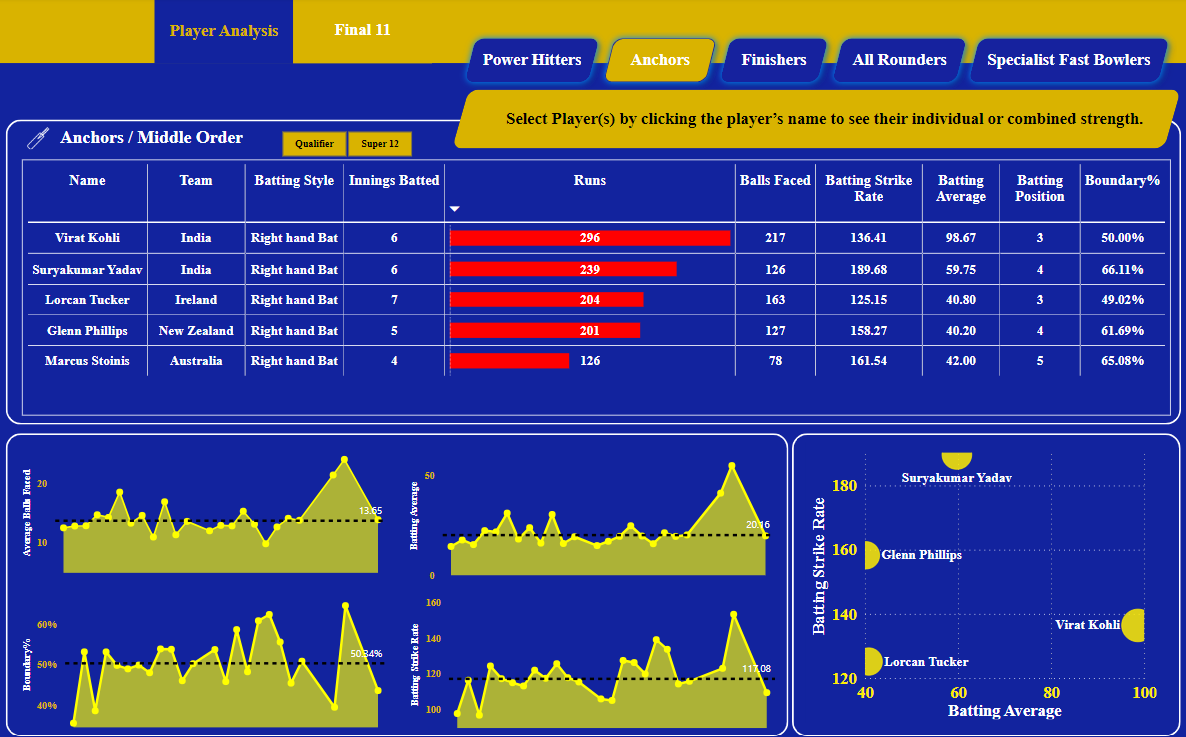

The page's visual inventory and layout, read from the dashboard file:
{"tool":"powerbi","page":{"name":"New Anchors / Middle Order","canvas":[1435,900],"ordinal":1},"visuals":[{"type":"shape","box":[0,79.9,1435.3,820.2],"z":0},{"type":"group","id":"g1","title":"Group 2","box":[70.8,154.5,230.5,31.2],"z":0,"group":"g2"},{"type":"shape","box":[70.8,154.5,230.5,31.2],"z":0,"group":"g1"},{"type":"shape","box":[10.6,147.8,1417.2,367.9],"z":1000},{"type":"image","box":[30.2,152.3,39,36],"z":1000,"group":"g2"},{"type":"shape","box":[548.8,111.6,879,70.9],"z":2000},{"type":"shape","box":[958.9,526.2,468.9,366.4],"z":3000},{"type":"tableEx","fields":{"Values":["dim_players.Name","dim_players.Team","dim_players.Batting Style","Measure.Total Innings Batted","Measure.Total Runs","Measure.Total Balls Faced","Measure.Strike Rate","Measure.Batting Average","Measure.Batting Position","Measure.Boundary%"]},"box":[30.2,196,1385.6,309],"z":4000},{"type":"card","fields":{"Values":["Measure.Average Balls Faced"]},"box":[815.7,111.6,138.7,70.9],"z":5000},{"type":"slicer","fields":{"Values":["dim_match_summary.Stage"]},"box":[318.1,155.3,206.6,43.7],"z":6000},{"type":"scatterChart","fields":{"Category":["dim_players.Name"],"X":["Measure.Batting Average"],"Size":["Measure.Total Runs"],"Y":["Measure.Strike Rate"]},"box":[975.5,536.7,428.2,339.2],"z":7000},{"type":"card","fields":{"Values":["Measure.Boundary%"]},"box":[1117.2,111.6,123.6,70.9],"z":8000},{"type":"card","fields":{"Values":["Measure.Strike Rate"]},"box":[1260.4,111.6,123.6,70.9],"z":9000},{"type":"card","fields":{"Values":["Measure.Batting Average"]},"box":[975.5,111.6,125.1,70.9],"z":10000},{"type":"actionButton","box":[554.8,40.7,180.9,70.9],"z":11000},{"type":"actionButton","box":[722.2,40.7,155.3,70.9],"z":12000},{"type":"actionButton","box":[1162.4,40.7,260.8,70.9],"z":13000},{"type":"actionButton","box":[998.1,40.7,180.9,70.9],"z":14000},{"type":"actionButton","box":[862.4,40.7,149.3,70.9],"z":15000},{"type":"shape","box":[10.6,526.2,943.8,366.4],"z":16000},{"type":"areaChart","fields":{"Y":["Measure.Batting Average"],"Category":["dim_match_summary.Match Date"]},"box":[493,539.7,449.3,170.4],"z":17000},{"type":"areaChart","fields":{"Y":["Measure.Strike Rate"],"Category":["dim_match_summary.Match Date"]},"box":[494.5,716.1,449.3,170.4],"z":18000},{"type":"areaChart","fields":{"Y":["Measure.Boundary%"],"Category":["dim_match_summary.Match Date"]},"box":[25.6,716.1,449.3,170],"z":19000},{"type":"areaChart","fields":{"Y":["Measure.Average Balls Faced"],"Category":["dim_match_summary.Match Date"]},"box":[25.6,536.7,449.3,170],"z":20000},{"type":"actionButton","box":[190,1.5,167.4,78.4],"z":21000},{"type":"actionButton","box":[357.3,0,167.4,79.9],"z":22000},{"type":"shape","box":[585,125.1,215.6,43.7],"z":23000},{"type":"shape","box":[612.1,125.1,771.9,43.7],"z":24000},{"type":"group","id":"g2","title":"Group 1","box":[30.2,152.3,271.4,34.7],"z":25000}]}

Visuals, with their boxes in screenshot pixels (x1, y1, x2, y2), scaled from the page's 1435x900 canvas onto the 1186x737 screenshot:
shape: <region>0, 65, 1185, 736</region>
"Group 2" group: <region>59, 127, 249, 152</region>
shape: <region>59, 127, 249, 152</region>
shape: <region>9, 121, 1180, 422</region>
image: <region>25, 125, 57, 154</region>
shape: <region>454, 91, 1180, 149</region>
shape: <region>793, 431, 1180, 731</region>
tableEx - dim_players.Name x dim_players.Team: <region>25, 161, 1170, 414</region>
card - Measure.Average Balls Faced: <region>674, 91, 789, 149</region>
slicer - dim_match_summary.Stage: <region>263, 127, 434, 163</region>
scatterChart - dim_players.Name x Measure.Batting Average: <region>806, 439, 1160, 717</region>
card - Measure.Boundary%: <region>923, 91, 1025, 149</region>
card - Measure.Strike Rate: <region>1042, 91, 1144, 149</region>
card - Measure.Batting Average: <region>806, 91, 910, 149</region>
actionButton: <region>459, 33, 608, 91</region>
actionButton: <region>597, 33, 725, 91</region>
actionButton: <region>961, 33, 1176, 91</region>
actionButton: <region>825, 33, 974, 91</region>
actionButton: <region>713, 33, 836, 91</region>
shape: <region>9, 431, 789, 731</region>
areaChart - Measure.Batting Average x dim_match_summary.Match Date: <region>407, 442, 779, 581</region>
areaChart - Measure.Strike Rate x dim_match_summary.Match Date: <region>409, 586, 780, 726</region>
areaChart - Measure.Boundary% x dim_match_summary.Match Date: <region>21, 586, 392, 726</region>
areaChart - Measure.Average Balls Faced x dim_match_summary.Match Date: <region>21, 439, 392, 579</region>
actionButton: <region>157, 1, 295, 65</region>
actionButton: <region>295, 0, 434, 65</region>
shape: <region>483, 102, 662, 138</region>
shape: <region>506, 102, 1144, 138</region>
"Group 1" group: <region>25, 125, 249, 153</region>
